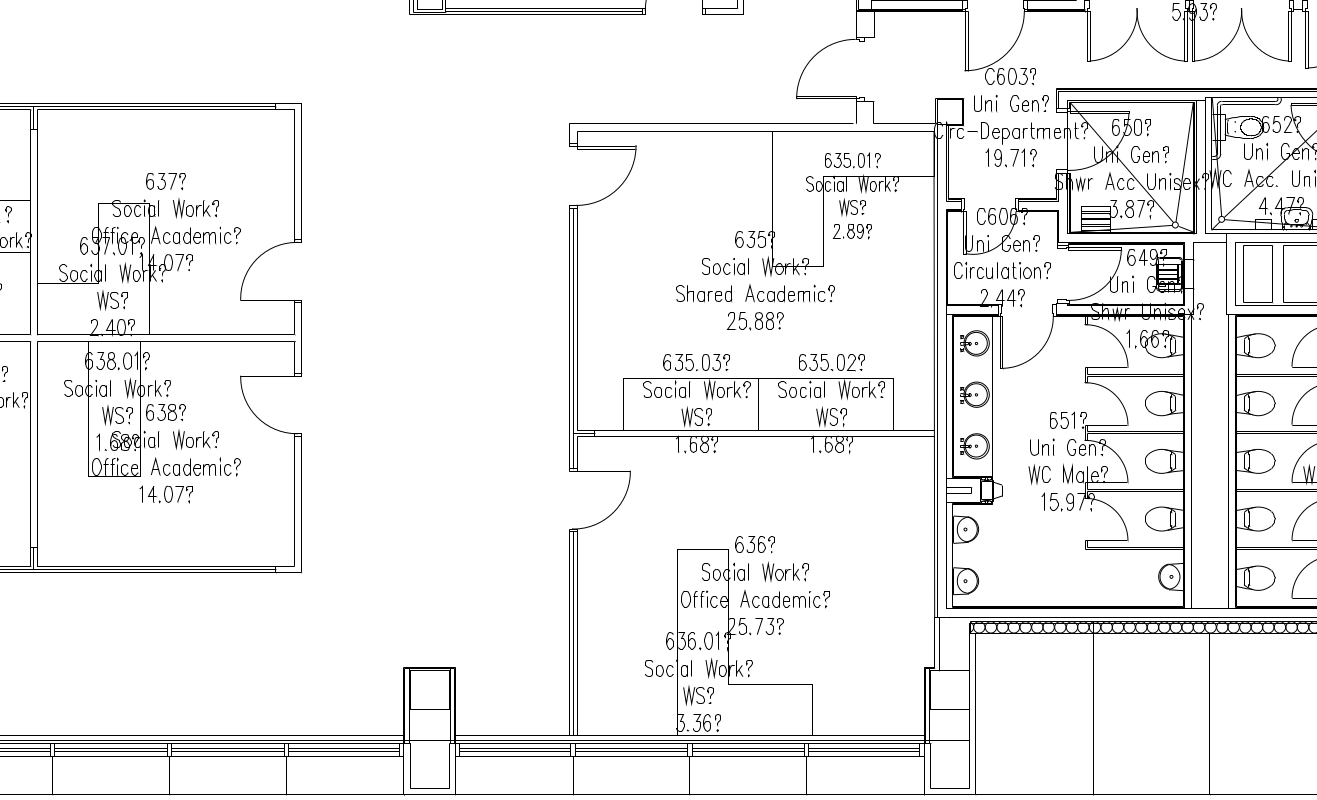door: (1082, 8, 1190, 69), (1189, 7, 1297, 68), (576, 466, 639, 532), (578, 144, 641, 210), (232, 240, 295, 306), (230, 371, 293, 437), (792, 36, 855, 102), (961, 8, 1024, 74), (997, 309, 1058, 373), (1063, 246, 1124, 304), (1080, 321, 1134, 371), (1080, 378, 1134, 428), (1081, 434, 1135, 484), (1079, 494, 1133, 544), (1282, 496, 1317, 544), (1282, 555, 1317, 603), (1282, 439, 1317, 487), (1282, 383, 1317, 431), (1282, 326, 1317, 374)
